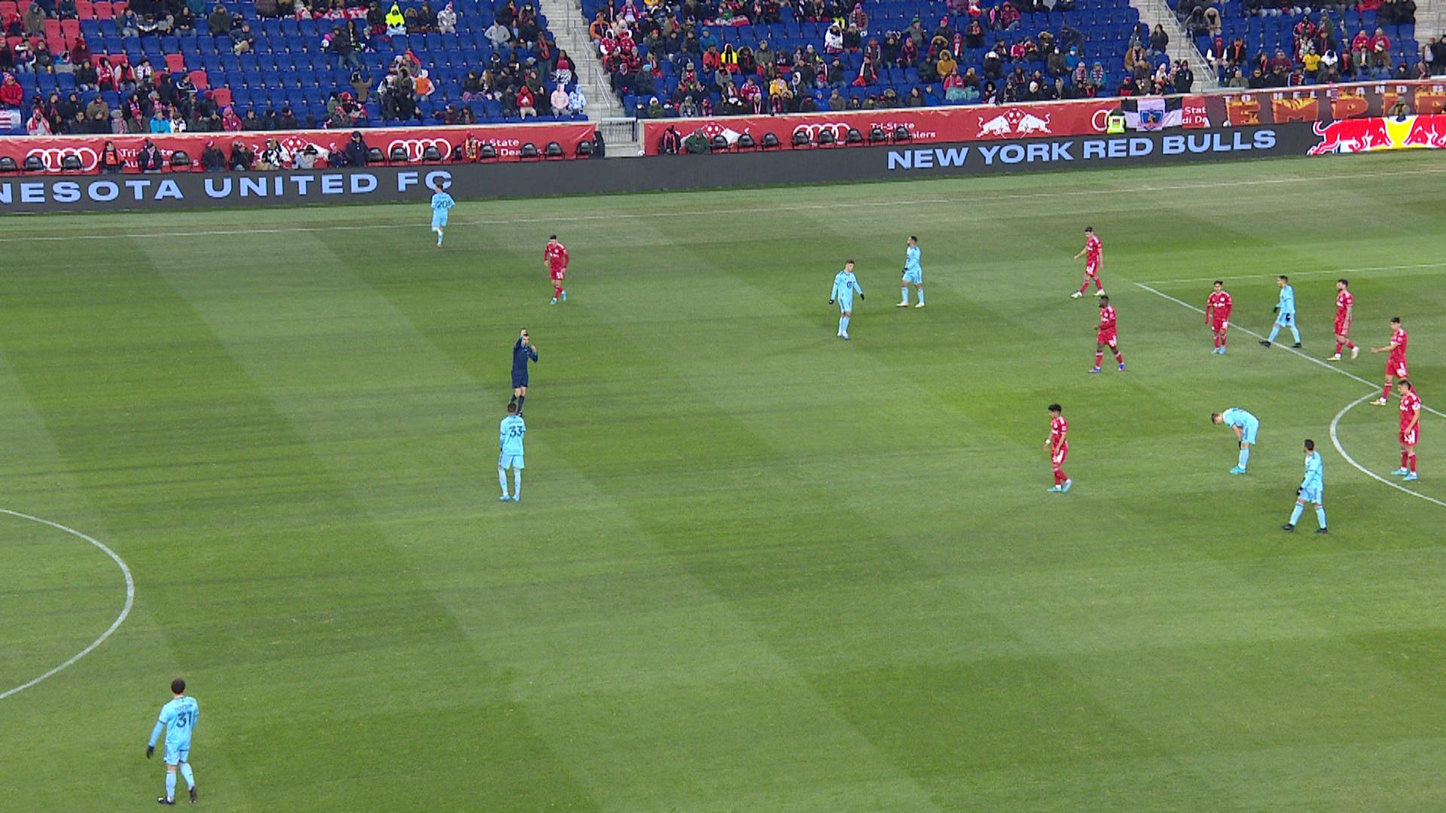Player: (146, 679, 199, 804), (1279, 439, 1328, 535), (1369, 318, 1416, 406), (1211, 408, 1259, 475), (1390, 380, 1421, 481), (1259, 276, 1301, 348), (1088, 295, 1125, 373), (829, 260, 864, 339), (498, 403, 526, 501), (1326, 279, 1359, 361), (1043, 404, 1072, 492), (1071, 227, 1105, 298), (897, 236, 925, 308), (1206, 281, 1232, 354), (544, 234, 570, 304), (431, 183, 455, 248)
referee: (510, 329, 538, 418)
